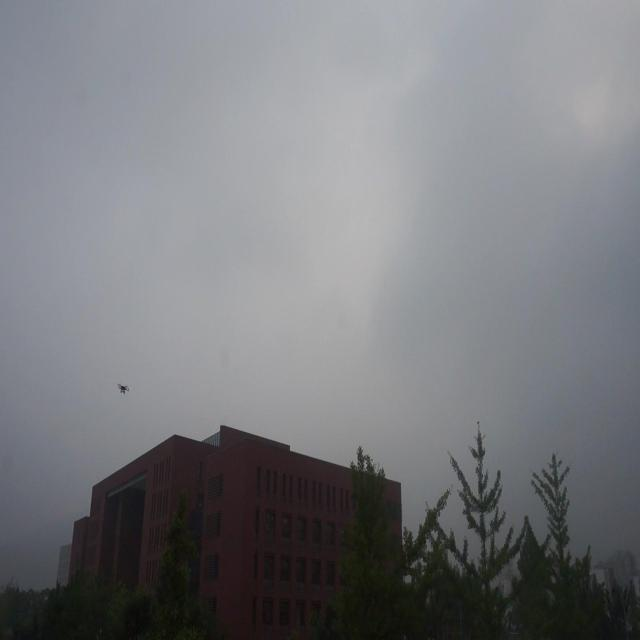drone: (116, 381, 132, 397)
